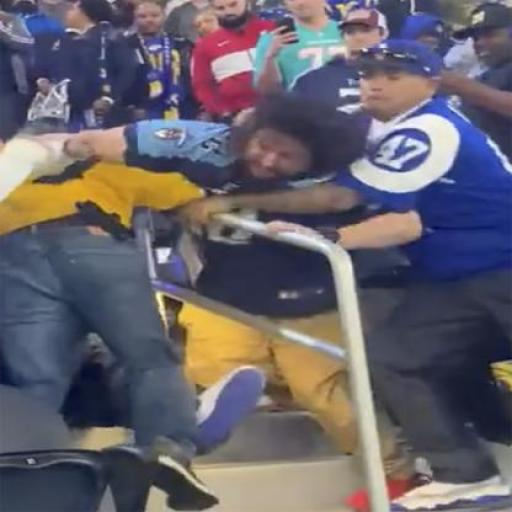Fighting: (3, 1, 512, 508)
